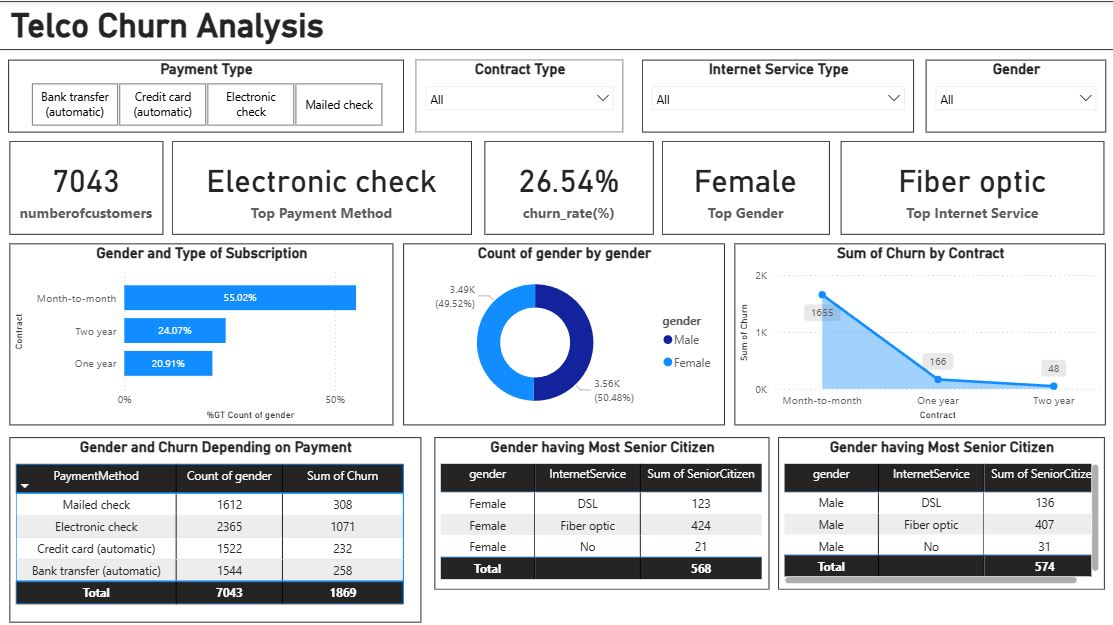

What the dashboard file says about the page in this screenshot:
{"tool":"powerbi","page":{"name":"Analysis","canvas":[1280,720],"ordinal":0},"visuals":[{"type":"card","fields":{"Values":["sql dta.churn_rate"]},"box":[558.5,160.5,193.5,107],"z":0},{"type":"card","fields":{"Values":["sql dta.Top Payment Method"]},"box":[200.3,160.5,343.1,107],"z":1000},{"type":"barChart","title":"Gender and Type of Subscription ","fields":{"Y":["CountNonNull(sql dta.gender)"],"Category":["sql dta.Contract"],"Series":["sql dta.Contract"]},"box":[14.3,277.2,439,208.2],"z":2000},{"type":"slicer","title":"Payment Type","fields":{"Values":["sql dta.PaymentMethod"]},"box":[13.4,66.8,452.5,83.1],"z":3000},{"type":"donutChart","fields":{"Y":["CountNonNull(sql dta.gender)"],"Category":["sql dta.gender"]},"box":[465.2,277.2,367.7,208.2],"z":4000},{"type":"textbox","box":[12.9,0,1256,55.8],"z":5000},{"type":"slicer","title":"Gender","fields":{"Values":["sql dta.gender"]},"box":[1062.2,66.8,206.2,83.1],"z":6000},{"type":"slicer","title":"Internet Service Type","fields":{"Values":["sql dta.InternetService"]},"box":[738.8,66.8,311.5,83.1],"z":7000},{"type":"slicer","title":"Contract Type","fields":{"Values":["sql dta.Contract"]},"box":[479.2,66.8,237.4,83.1],"z":8000},{"type":"card","title":"Total","fields":{"Values":["sql dta.numberofcustomers"]},"box":[13.7,160.5,175.6,107],"z":9000},{"type":"card","fields":{"Values":["sql dta.Top Internet Service"]},"box":[966,160.5,301.9,107],"z":10000},{"type":"card","fields":{"Values":["sql dta.Top Gender"]},"box":[761.6,160.5,192.1,107],"z":11000},{"type":"tableEx","title":"Dependents vs Churn Basd on Payment Method","fields":{"Values":["sql dta.PaymentMethod","sql dta.gender","Sum(sql dta.Churn)","Sum(sql dta.Dependents)"]},"box":[12.9,499.2,470.6,211.7],"z":12000},{"type":"lineChart","fields":{"Category":["sql dta.Contract"],"Y":["Sum(sql dta.Churn)"]},"box":[843.6,277.2,424.8,208.2],"z":13000},{"type":"tableEx","title":"Gender having Most Senior Citizen ","fields":{"Values":["sql dta.gender","sql dta.InternetService","Sum(sql dta.SeniorCitizen)"]},"box":[500.7,499.2,383.4,174.5],"z":14000},{"type":"tableEx","title":"Gender having Most Senior Citizen ","fields":{"Values":["sql dta.gender","sql dta.InternetService","Sum(sql dta.SeniorCitizen)"]},"box":[884,499.2,383.4,174.5],"z":15000},{"type":"textbox","box":[500.7,673.8,766.7,37.2],"z":16000},{"type":"pageNavigator","box":[1026.4,2.7,218.2,48],"z":18000}]}

Visuals, with their boxes in screenshot pixels (x1, y1, x2, y2), scaled from the page's 1280x720 canvas onto the 1113x625 screenshot:
card - sql dta.churn_rate: 486,139,654,232
card - sql dta.Top Payment Method: 174,139,473,232
"Gender and Type of Subscription " barChart: 12,241,394,421
"Payment Type" slicer: 12,58,405,130
donutChart - CountNonNull(sql dta.gender) x sql dta.gender: 405,241,724,421
textbox: 11,0,1103,48
"Gender" slicer: 924,58,1103,130
"Internet Service Type" slicer: 642,58,913,130
"Contract Type" slicer: 417,58,623,130
"Total" card: 12,139,165,232
card - sql dta.Top Internet Service: 840,139,1102,232
card - sql dta.Top Gender: 662,139,829,232
"Dependents vs Churn Basd on Payment Method" tableEx: 11,433,420,617
lineChart - sql dta.Contract x Sum(sql dta.Churn): 734,241,1103,421
"Gender having Most Senior Citizen " tableEx: 435,433,769,585
"Gender having Most Senior Citizen " tableEx: 769,433,1102,585
textbox: 435,585,1102,617
pageNavigator: 892,2,1082,44
